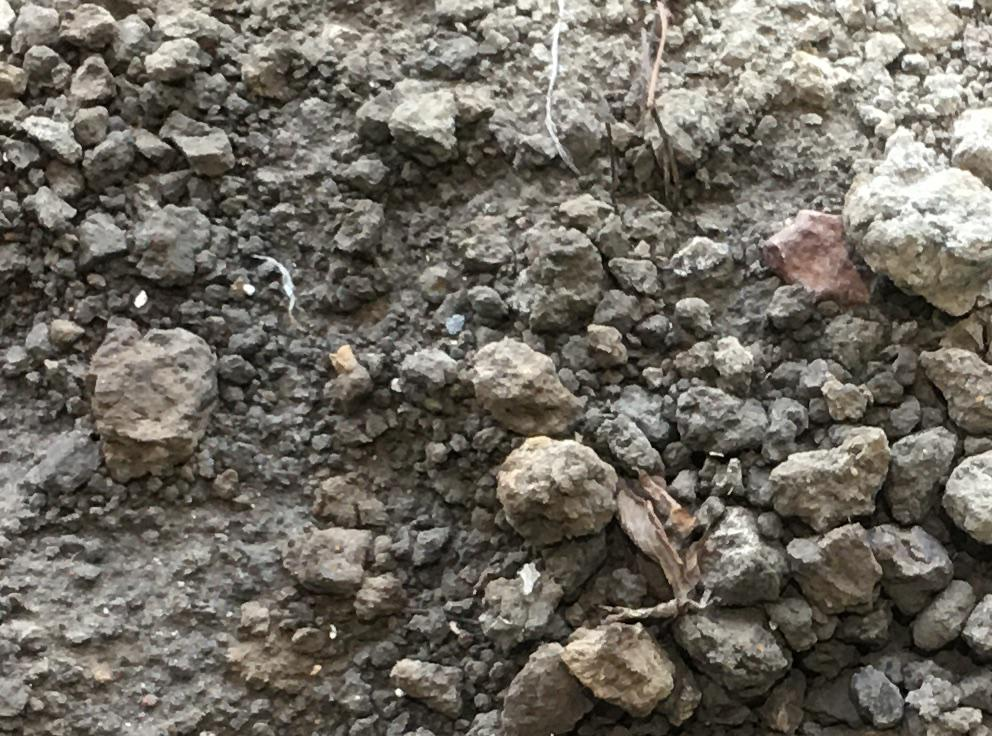block: (843, 150, 985, 324), (90, 319, 212, 482), (493, 433, 618, 538), (562, 616, 669, 719), (768, 428, 880, 526), (471, 337, 574, 435)
